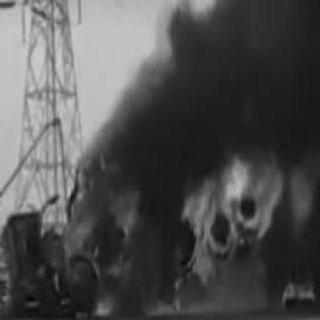Fire: (284, 278, 314, 304)
Smoke: (83, 3, 317, 155)
